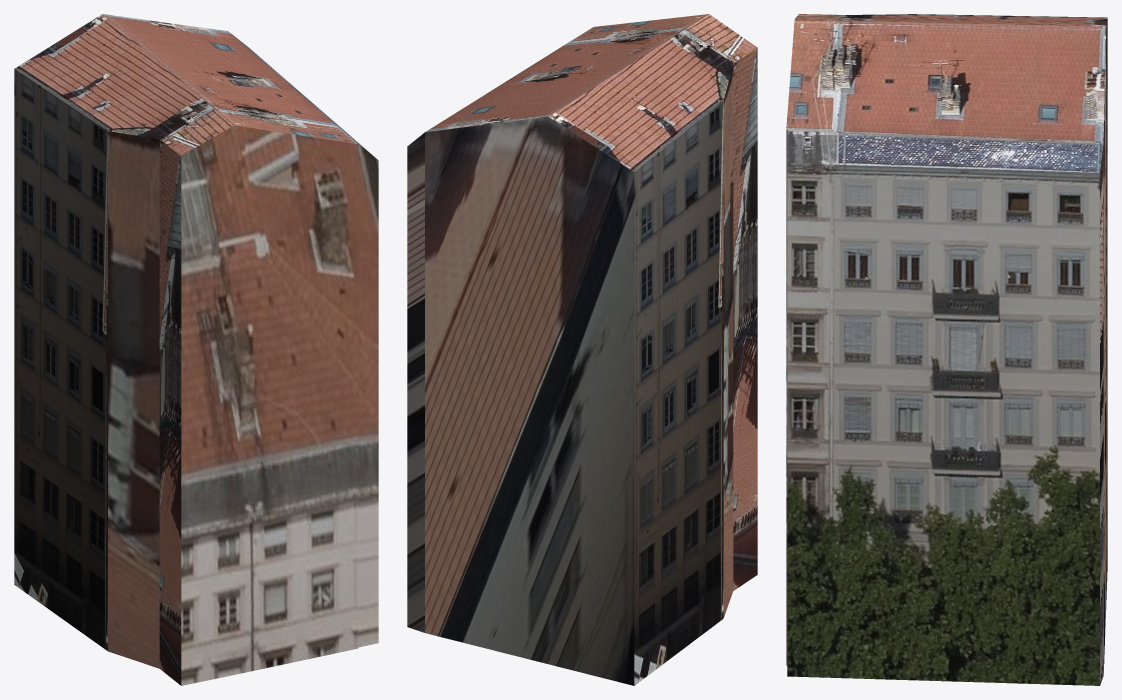
3 renders of one model, left to right at view 1: azimuth 30°, elevation 25°; view 2: azimuth 150°, elevation 25°; view 3: azimuth 270°, elevation 25°, orthographic. The views are drawn at different scales.
Visible parts, largest first — view 1: Z_UP; view 2: Z_UP; view 3: Z_UP.
Boxes of the visible parts, x1,y1,x2,y2 form: Z_UP: (14,14,378,685); Z_UP: (407,14,757,685); Z_UP: (786,14,1107,685).
Size of the model in its own units: 13.01 by 29.54 by 14.72.
2 materials, 1 textured.
